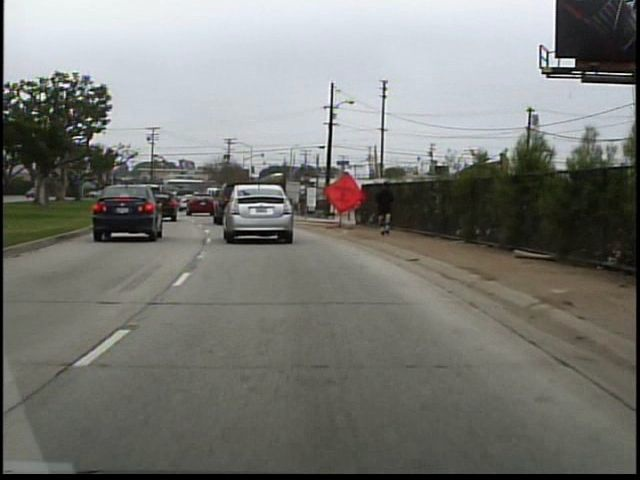person: (372, 178, 399, 237)
